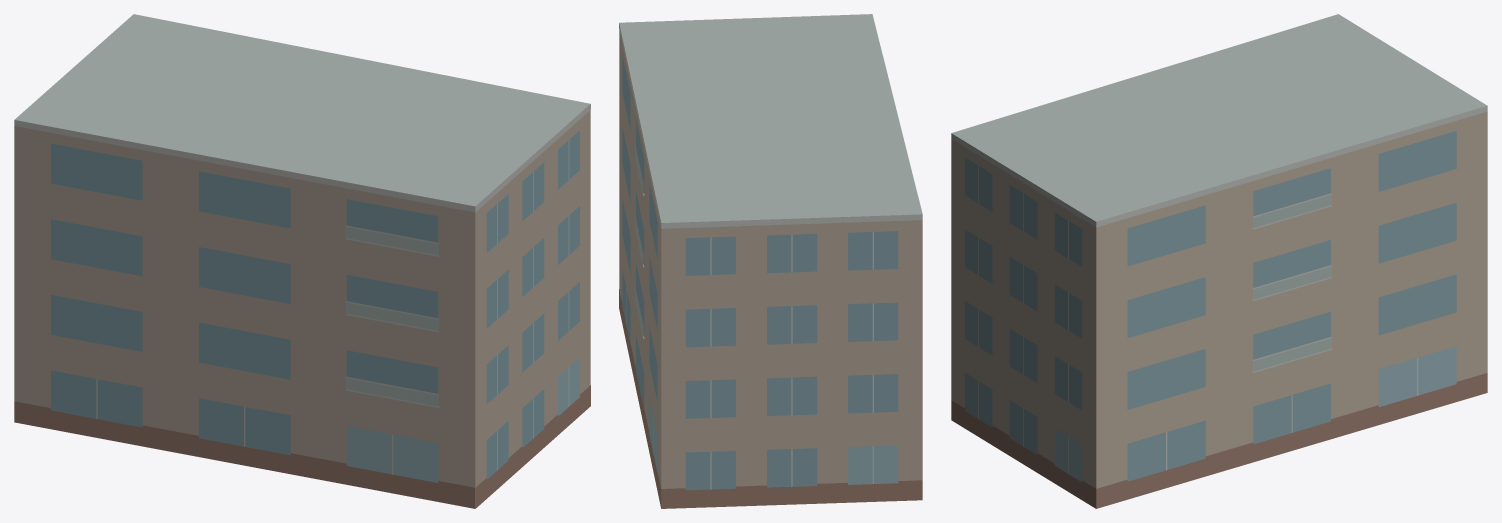
Rendered from survey-upis-32621297.glb.
3 views of the same model, side by side, from view 1: azimuth 30°, elevation 25°; view 2: azimuth 150°, elevation 25°; view 3: azimuth 270°, elevation 25° (orthographic). The views are drawn at different scales.
Parts seen in each view (by area): view 1: survey-upis-32621297.tmp; view 2: survey-upis-32621297.tmp; view 3: survey-upis-32621297.tmp.
Part boxes in pixels (x1,y1,x2,y2): survey-upis-32621297.tmp: (14,14,590,508); survey-upis-32621297.tmp: (619,14,922,508); survey-upis-32621297.tmp: (951,14,1487,508).
Size of the model in its own units: 18.95 by 12.2 by 20.67.
